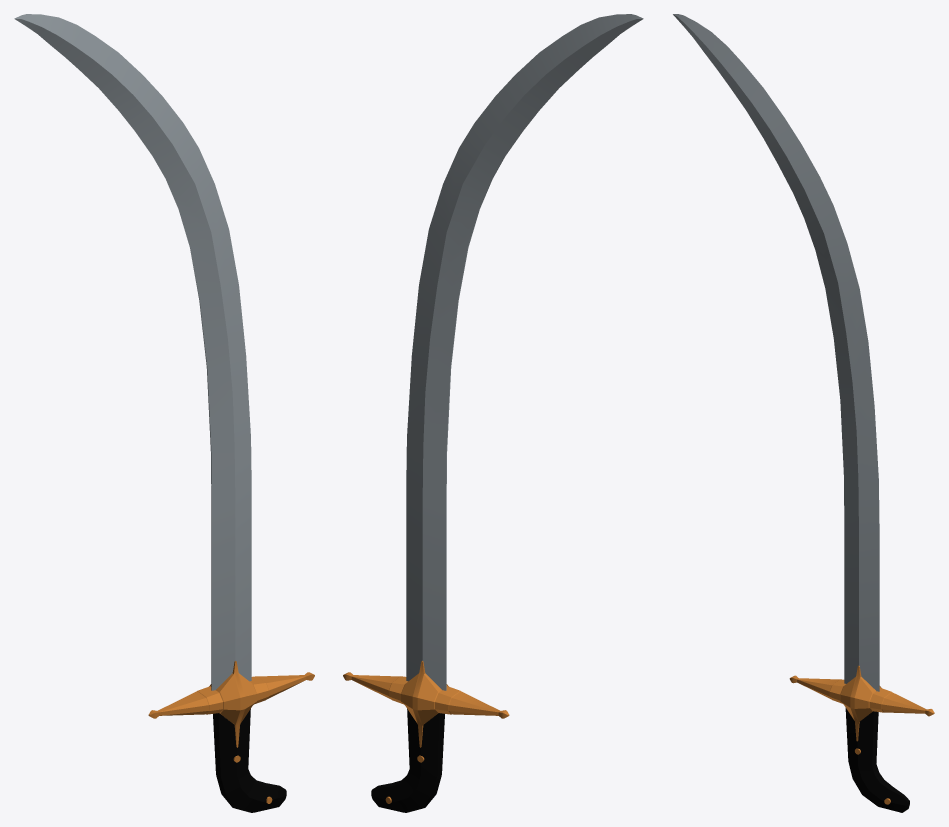
Rendered from SM_Sword16_Shamshir_1.fbx.
The picture shows the model from 3 angles, left to right: view 1: azimuth 30°, elevation 25°; view 2: azimuth 150°, elevation 25°; view 3: azimuth 330°, elevation 25°; orthographic projection. The views are drawn at different scales.
Visible parts, largest first — view 1: Cube.335, Cylinder.428, Cube.336; view 2: Cube.335, Cylinder.428, Cube.336; view 3: Cube.335, Cylinder.428, Cube.336.
Part boxes in pixels (x1,y1,x2,y2): Cube.335: (14, 14, 251, 690); Cylinder.428: (213, 709, 286, 812); Cube.336: (148, 661, 314, 747); Cube.335: (406, 14, 643, 690); Cylinder.428: (371, 709, 444, 812); Cube.336: (343, 661, 509, 747); Cube.335: (673, 14, 879, 691); Cylinder.428: (845, 708, 909, 812); Cube.336: (789, 666, 934, 741).
Bounding box in the file's own units: 0.3006 × 0.8173 × 0.0382.
